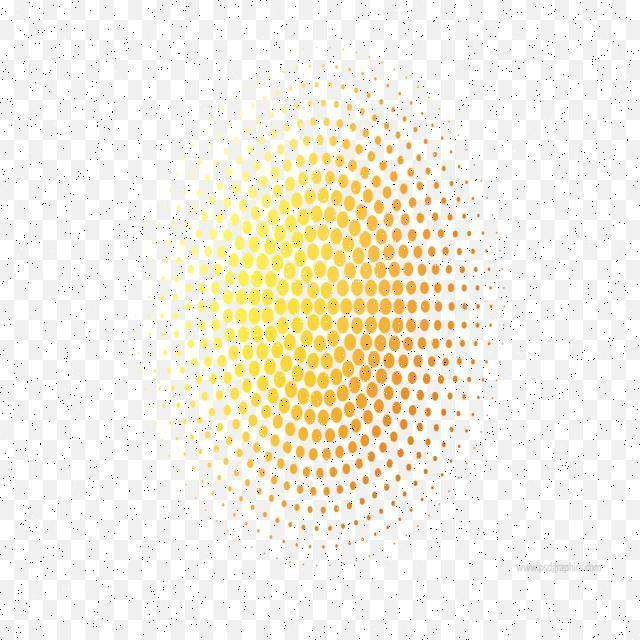Circle: (145, 52, 510, 564)
